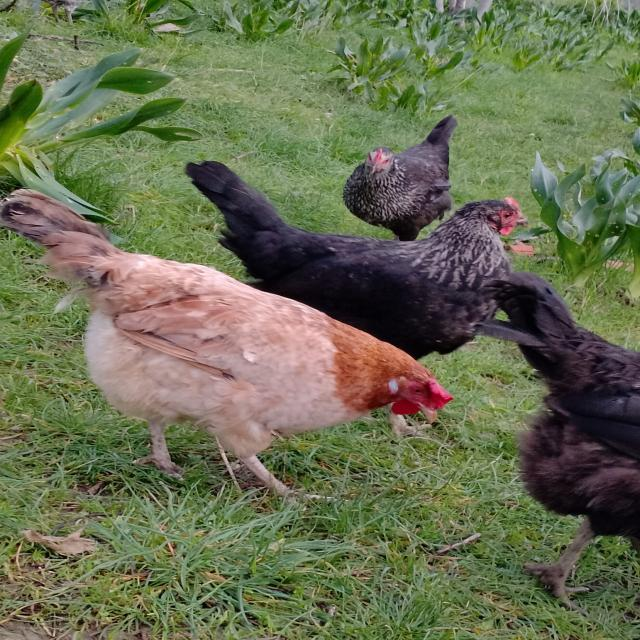Healthy: (5, 176, 457, 521), (181, 154, 532, 377), (333, 101, 461, 242)
